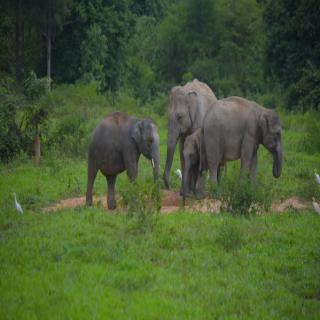Elephant: (199, 96, 288, 202), (83, 107, 162, 213), (159, 76, 216, 190), (178, 126, 214, 204)
